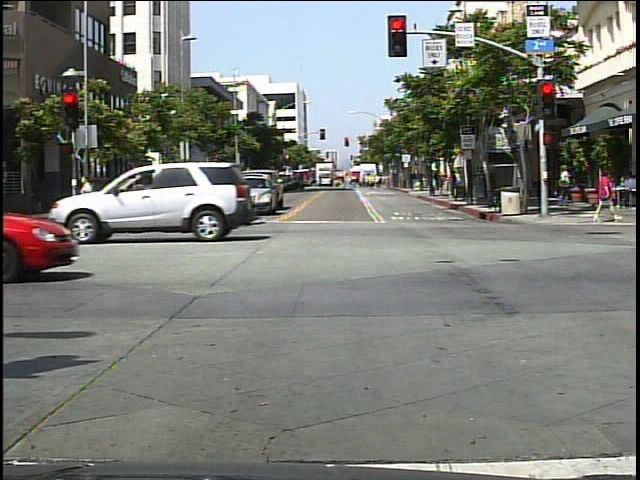person: (590, 167, 623, 229), (555, 162, 578, 213), (78, 173, 99, 197)
